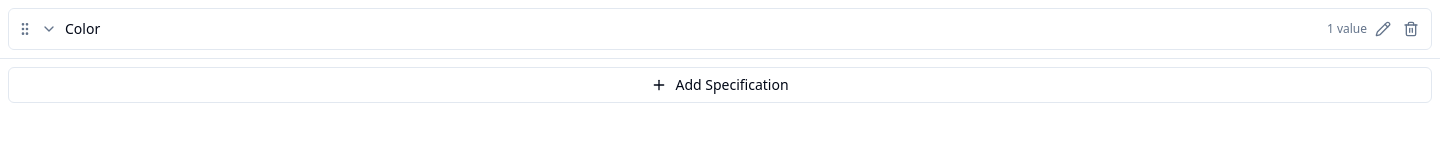
Scenario: SpecificationList › collapses specification when clicked again
Click the text "Color".
click(83, 28)  # box [65,19,100,38]
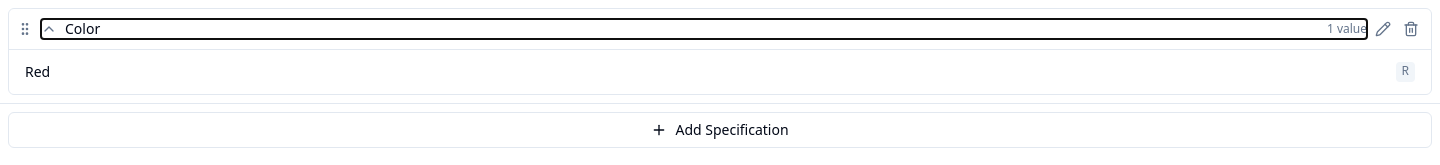
Result: the text "Red" is shown at [25,62,50,81]
Click the text "Color".
click(83, 28)  # box [65,19,100,38]
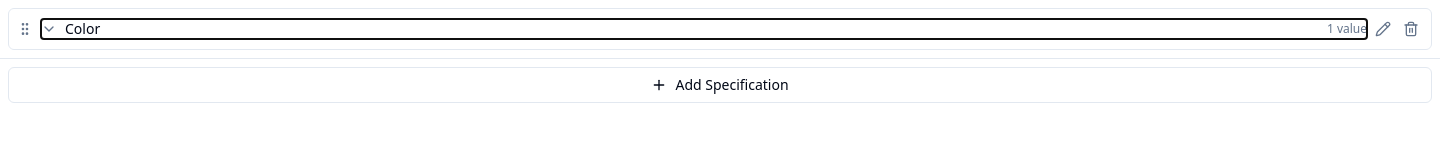
Result: the text "Red" is gone
